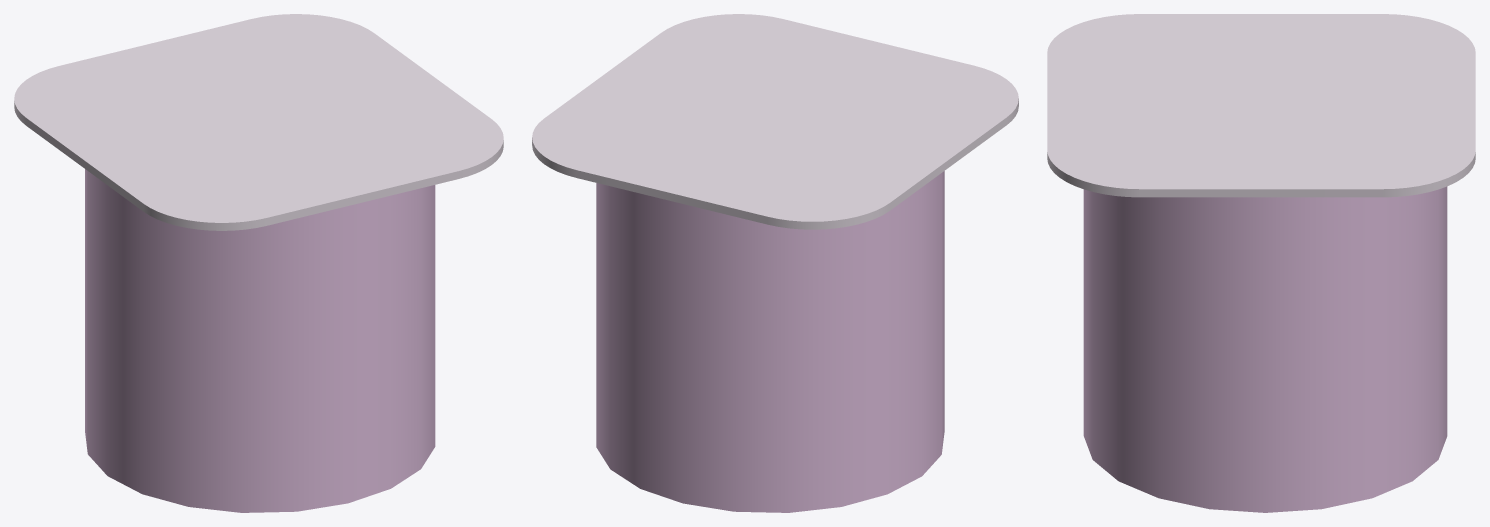
Rendered from YogurtUnity.fbx.
The picture shows the model from 3 angles, left to right: view 1: azimuth 30°, elevation 25°; view 2: azimuth 150°, elevation 25°; view 3: azimuth 270°, elevation 25°; orthographic projection. The views are drawn at different scales.
Parts seen in each view (by area): view 1: pCylinder1, pCube1; view 2: pCylinder1, pCube1; view 3: pCylinder1, pCube1.
Part boxes in pixels (x1,y1,x2,y2): pCylinder1: [85, 169, 435, 512]; pCube1: [14, 14, 503, 230]; pCylinder1: [596, 171, 944, 512]; pCube1: [532, 14, 1018, 229]; pCylinder1: [1083, 186, 1447, 512]; pCube1: [1047, 14, 1475, 197].
Bounding box in the file's own units: 2.28 × 2.02 × 2.36.
